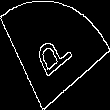P_SW: (31, 25, 79, 85)
